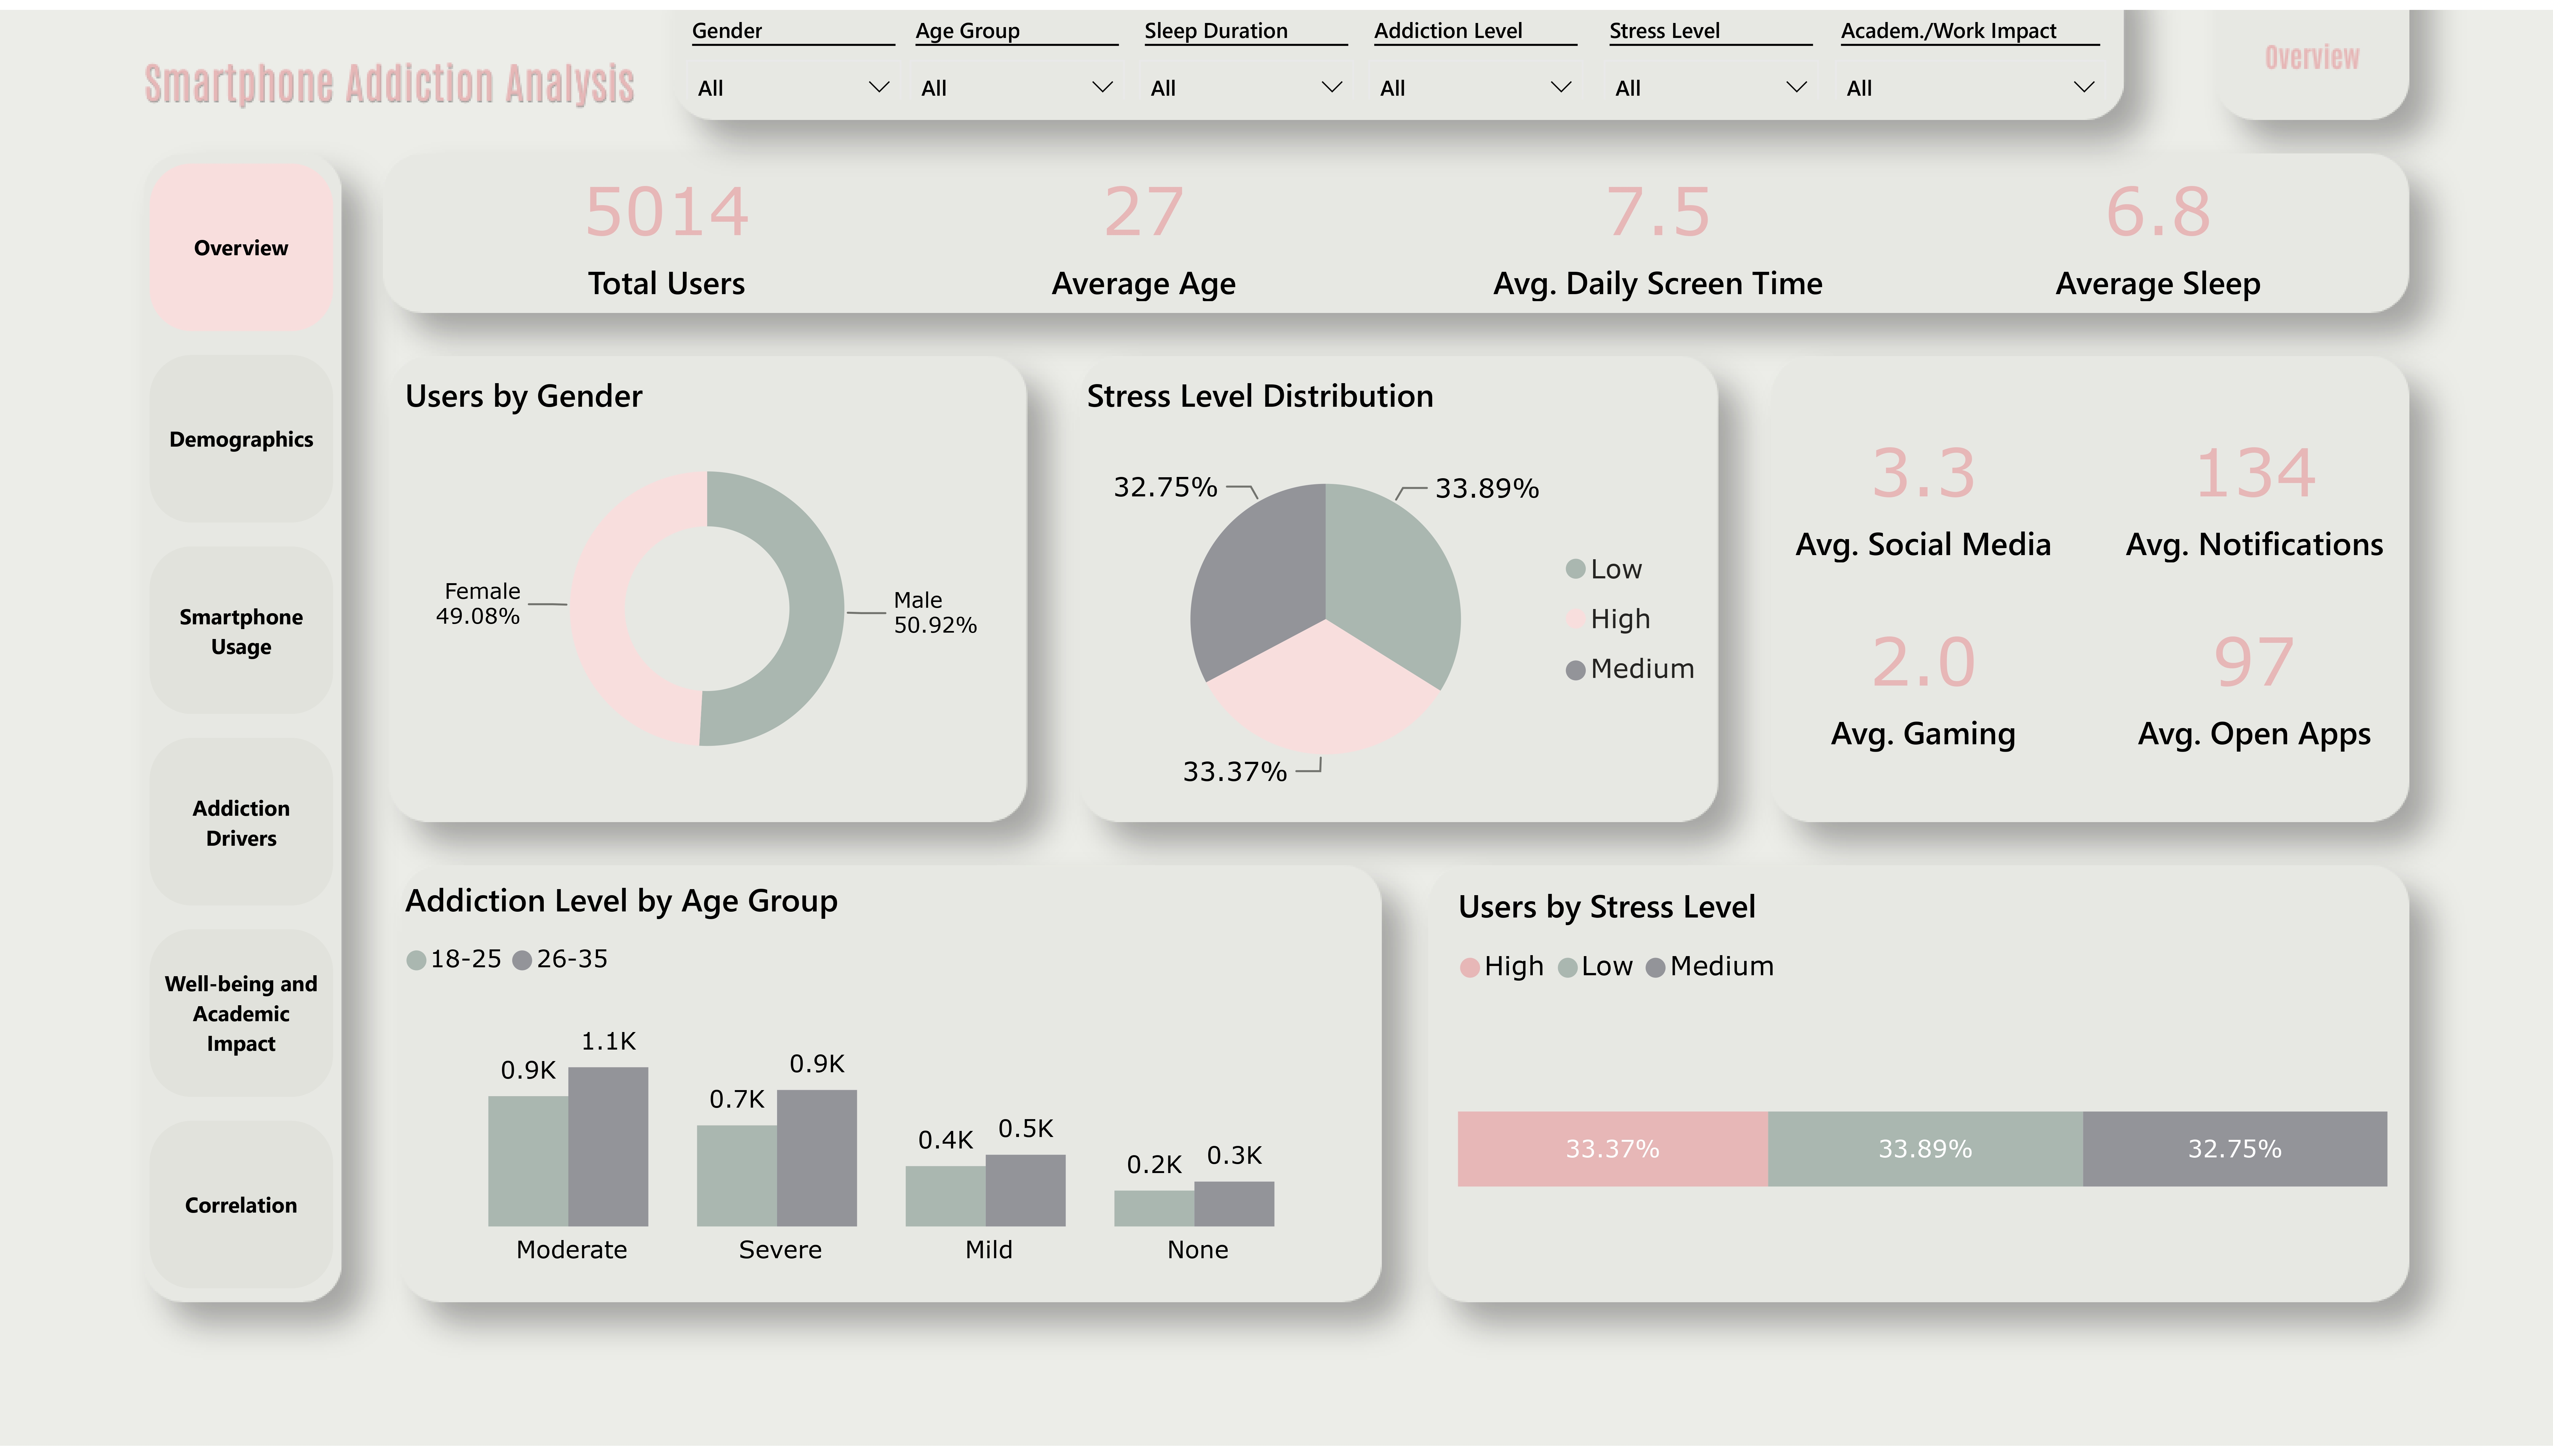

Layout of this report page (visuals, bound fields, positions):
{"tool":"powerbi","page":{"name":"Overview","canvas":[1280,720],"ordinal":0},"visuals":[{"type":"card","fields":{"Values":["Count(smartphone_addiction_cleaned.user_id)"]},"box":[148.7,112.8,189.9,200.6],"z":0},{"type":"pieChart","fields":{"Y":["Divide(Count(smartphone_addiction_cleaned.user_id), ScopedEval(Count(smartphone_addiction_cleaned.user_id), []))"],"Category":["smartphone_addiction_cleaned.addiction_level"]},"box":[299.6,367.7,176,147.8],"z":1000},{"type":"card","fields":{"Values":["Avg(smartphone_addiction_cleaned.daily_screen_time_hours)"]},"box":[217.9,477.6,200.4,74.9],"z":2000},{"type":"pieChart","fields":{"Category":["smartphone_addiction_cleaned.stress_level"],"Y":["Divide(Count(smartphone_addiction_cleaned.user_id), ScopedEval(Count(smartphone_addiction_cleaned.user_id), []))"]},"box":[368.6,112.8,214,177],"z":3000},{"type":"card","fields":{"Values":["Avg(smartphone_addiction_cleaned.sleep_hours)"]},"box":[418.2,298.6,172.2,140.1],"z":4000},{"type":"card","fields":{"Values":["Avg(smartphone_addiction_cleaned.social_media_hours)"]},"box":[299.6,570,190.6,74.9],"z":5000},{"type":"donutChart","fields":{"Category":["smartphone_addiction_cleaned.gender"],"Y":["Divide(Count(smartphone_addiction_cleaned.user_id), ScopedEval(Count(smartphone_addiction_cleaned.user_id), []))"]},"box":[647.8,87.5,191.6,156.6],"z":6000},{"type":"card","fields":{"Values":["Median(smartphone_addiction_cleaned.weekend_screen_time)"]},"box":[686.7,289.8,193.6,187.7],"z":7000},{"type":"card","fields":{"Values":["Median(smartphone_addiction_cleaned.work_study_hours)"]},"box":[590.4,570,191.6,89.5],"z":8000},{"type":"card","fields":{"Values":["Median(smartphone_addiction_cleaned.gaming_hours)"]},"box":[975.6,105,157.6,139.1],"z":9000},{"type":"card","fields":{"Values":["Median(smartphone_addiction_cleaned.app_opens_per_day)"]},"box":[1020.3,314.2,140.1,124.5],"z":10000},{"type":"card","fields":{"Values":["Median(smartphone_addiction_cleaned.notifications_per_day)"]},"box":[963.9,525.2,219.8,89.5],"z":11000}]}

Visuals, with their boxes on the page's 1280x720 design canvas (x1, y1, x2, y2). These are canvas units, not pixel positions in the 2553x1456 screenshot, which may show the page scaled, cropped or inside an application window:
card - Count(smartphone_addiction_cleaned.user_id): (149, 113, 339, 313)
pieChart - Divide(Count(smartphone_addiction_cleaned.user_id), ScopedEval(Count(smartphone_addiction_cleaned.user_id), [])) x smartphone_addiction_cleaned.addiction_level: (300, 368, 476, 516)
card - Avg(smartphone_addiction_cleaned.daily_screen_time_hours): (218, 478, 418, 552)
pieChart - smartphone_addiction_cleaned.stress_level x Divide(Count(smartphone_addiction_cleaned.user_id), ScopedEval(Count(smartphone_addiction_cleaned.user_id), [])): (369, 113, 583, 290)
card - Avg(smartphone_addiction_cleaned.sleep_hours): (418, 299, 590, 439)
card - Avg(smartphone_addiction_cleaned.social_media_hours): (300, 570, 490, 645)
donutChart - smartphone_addiction_cleaned.gender x Divide(Count(smartphone_addiction_cleaned.user_id), ScopedEval(Count(smartphone_addiction_cleaned.user_id), [])): (648, 88, 839, 244)
card - Median(smartphone_addiction_cleaned.weekend_screen_time): (687, 290, 880, 478)
card - Median(smartphone_addiction_cleaned.work_study_hours): (590, 570, 782, 660)
card - Median(smartphone_addiction_cleaned.gaming_hours): (976, 105, 1133, 244)
card - Median(smartphone_addiction_cleaned.app_opens_per_day): (1020, 314, 1160, 439)
card - Median(smartphone_addiction_cleaned.notifications_per_day): (964, 525, 1184, 615)
